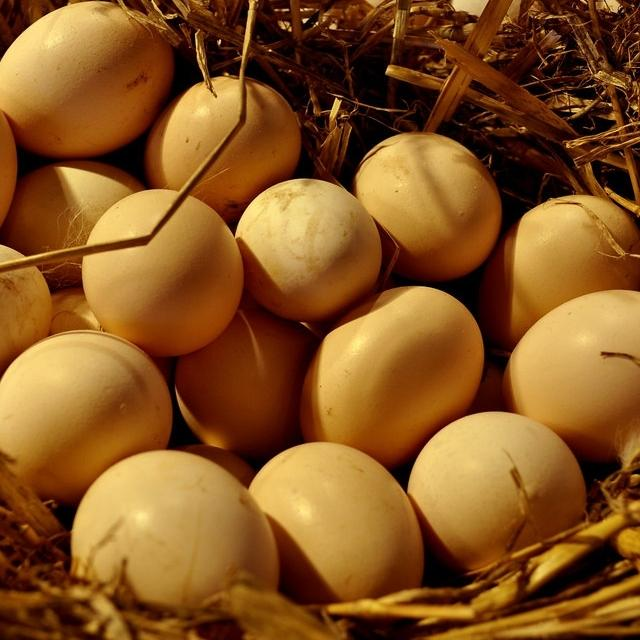egg: (69, 448, 279, 610), (299, 285, 484, 466), (0, 329, 172, 505), (407, 410, 586, 573), (247, 440, 424, 604), (81, 187, 244, 356), (0, 0, 173, 157), (480, 193, 640, 350), (501, 288, 640, 462), (144, 74, 301, 222), (353, 130, 502, 281), (234, 177, 382, 323), (173, 307, 317, 456), (1, 159, 145, 285), (0, 240, 52, 402)
